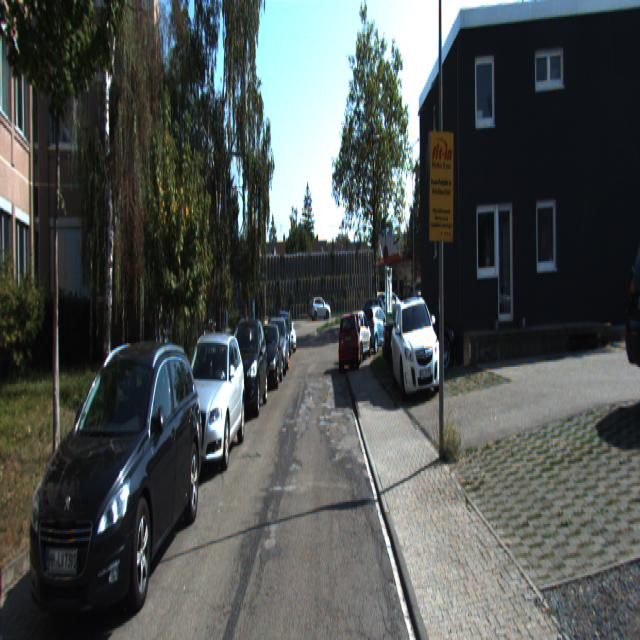Car: (19, 328, 205, 638), (170, 330, 245, 480), (383, 286, 455, 368), (389, 292, 443, 398), (222, 314, 269, 418), (620, 175, 640, 402), (255, 319, 283, 391), (345, 307, 373, 364), (360, 301, 390, 354), (337, 306, 361, 372), (265, 314, 290, 375), (309, 296, 329, 318)
